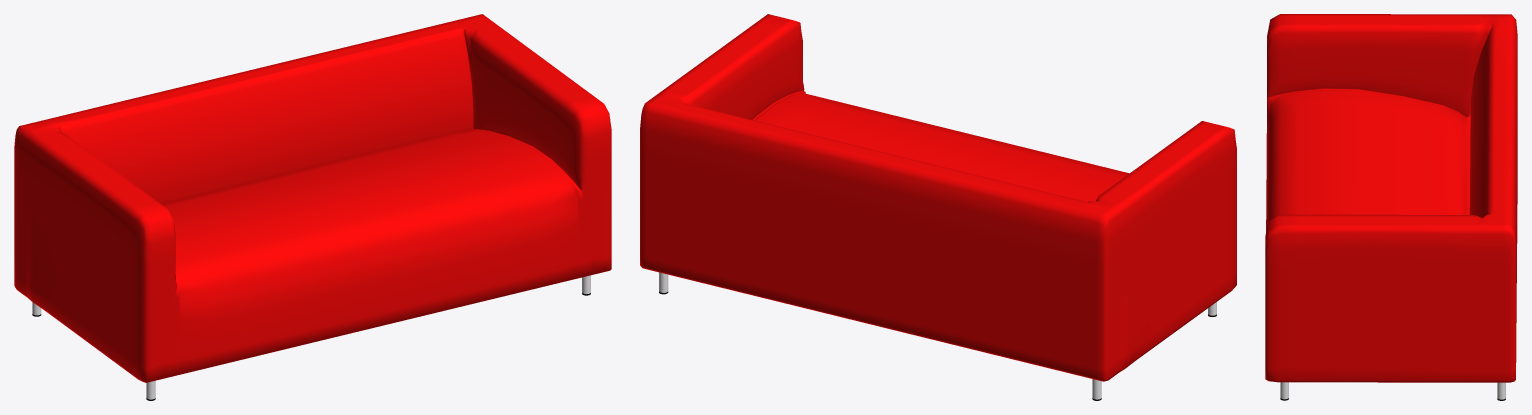
File: Kipplan_2_Seat_Sofa-3D.DAE
3 views of the same model, side by side, from view 1: azimuth 30°, elevation 25°; view 2: azimuth 150°, elevation 25°; view 3: azimuth 270°, elevation 25° (orthographic). The views are drawn at different scales.
Parts seen in each view (by area): view 1: Cylinder03; view 2: Cylinder03; view 3: Cylinder03.
Boxes of the visible parts, <box> form: Cylinder03: <box>14,14,611,400</box>; Cylinder03: <box>640,14,1236,400</box>; Cylinder03: <box>1265,14,1517,400</box>.
Bounding box in the file's own units: 1800 × 698 × 886.
